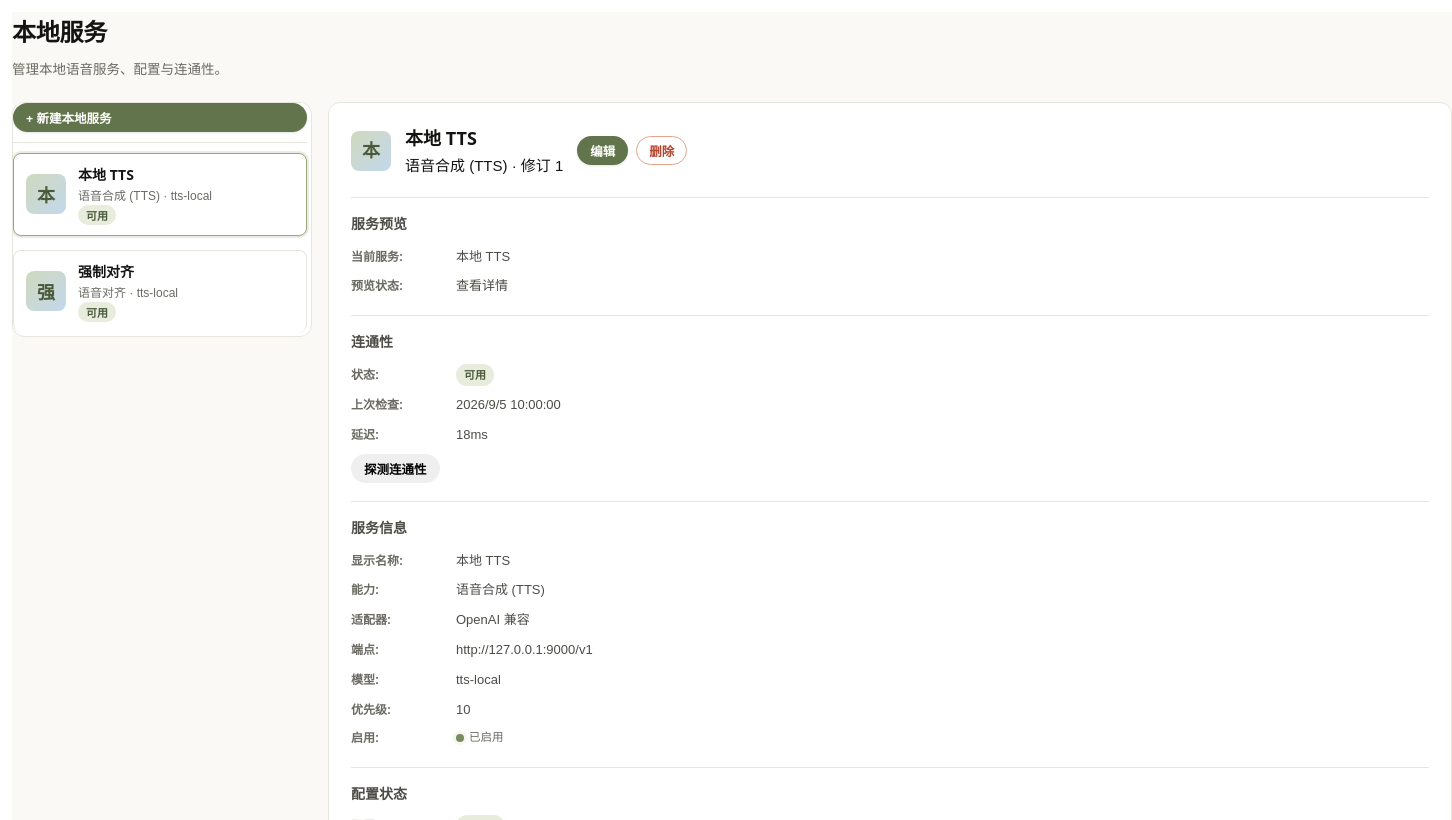
Scenario: VoiceAlignmentPage › shows only local services and switches the detail preview from the list
Expected: the heading "本地服务" is shown, [12,15,107,48]
Expected: the button "本 本地 TTS 语音合成 (TTS) · tts-local 可用" is shown, [13,153,307,236]
Click the button "强 强制对齐 语音对齐 · tts-local 可用".
click(160, 291)  # box [13,250,307,332]
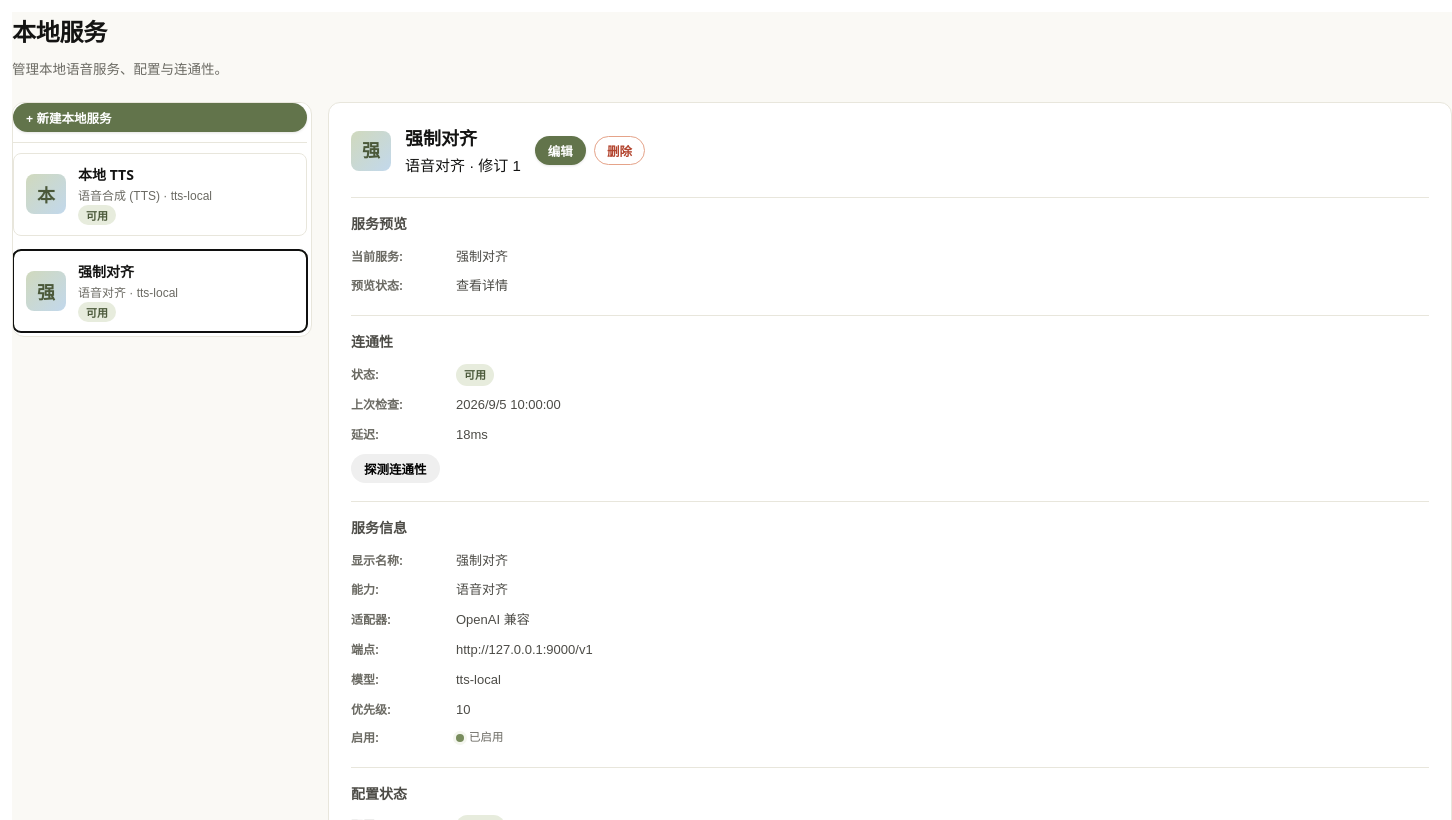
Now the element "服务预览" shows "强制对齐", box [456,249,508,264]
